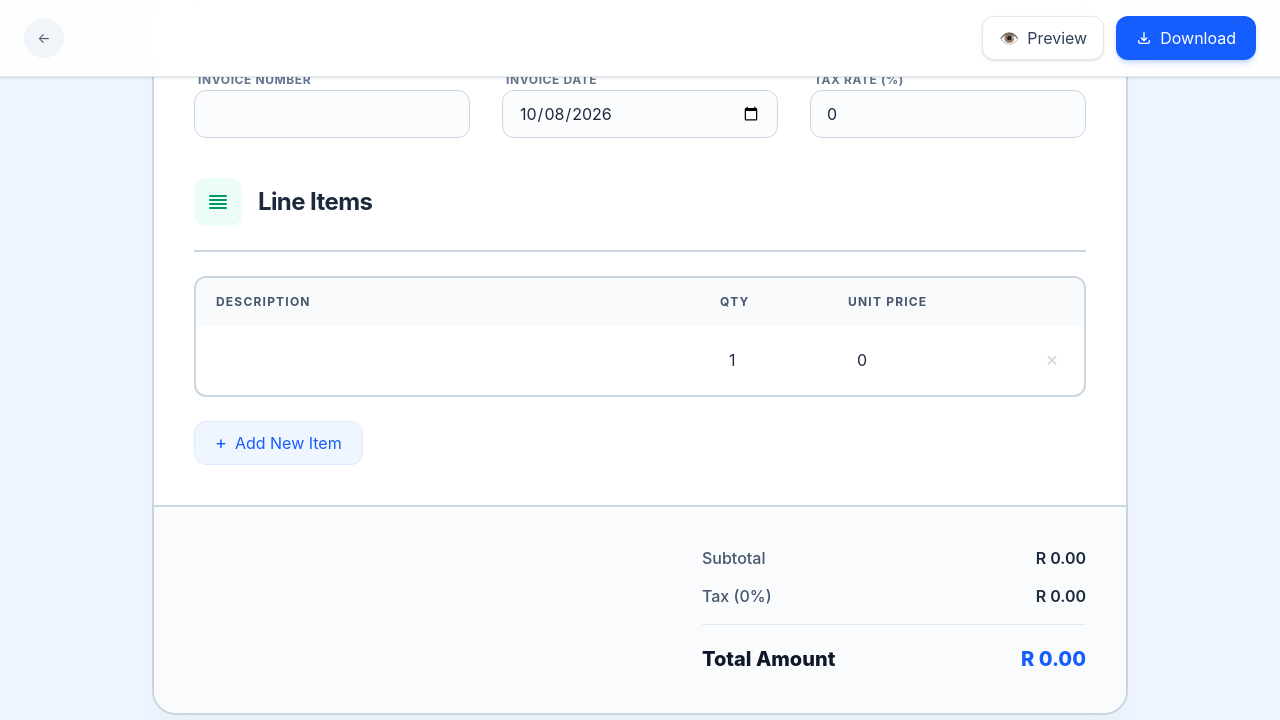
Scenario: InvoiceBuilder dataflow › Totals dataflow › changing subtotal recalculates tax, changing tax rate recalculates tax again, and inputs remain intact
(page scrolled)
Replace the text in the 2nd number field with "2" at coordinates (764, 360), box top-left (712, 338), bottom-right (816, 382)
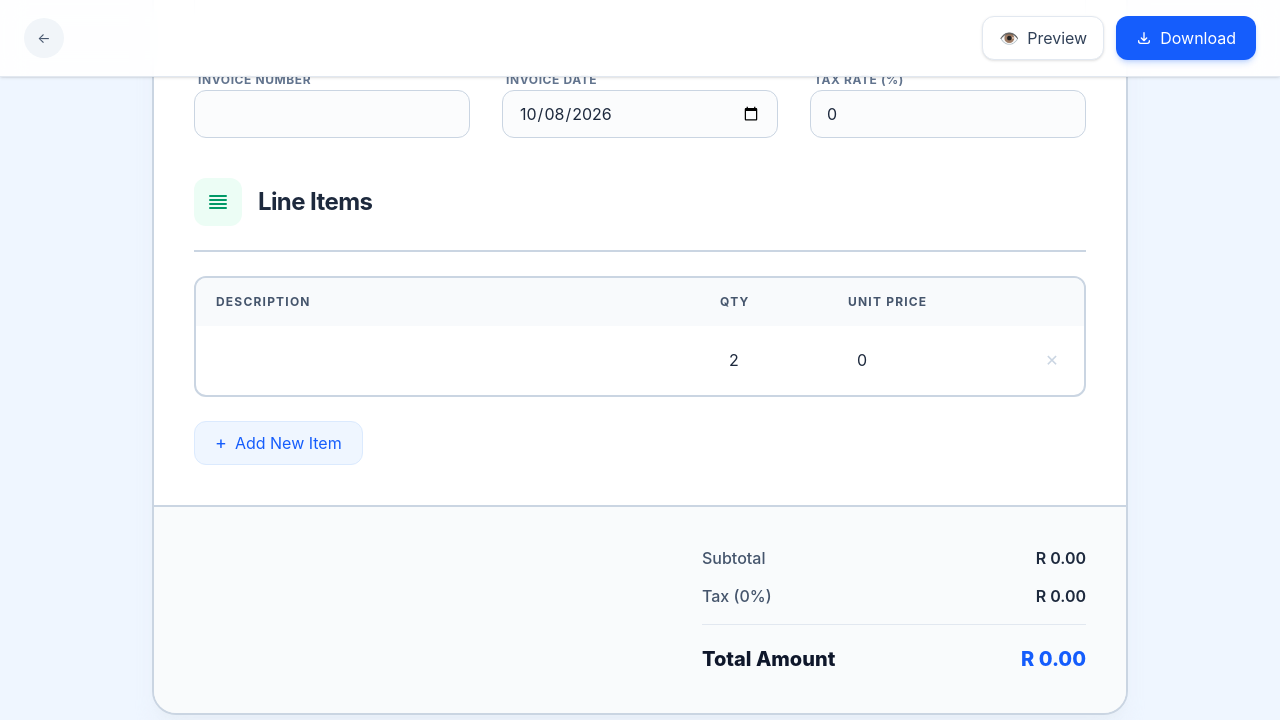
Replace the text in the 3rd number field with "50" at coordinates (924, 360), box top-left (840, 338), bottom-right (1008, 382)
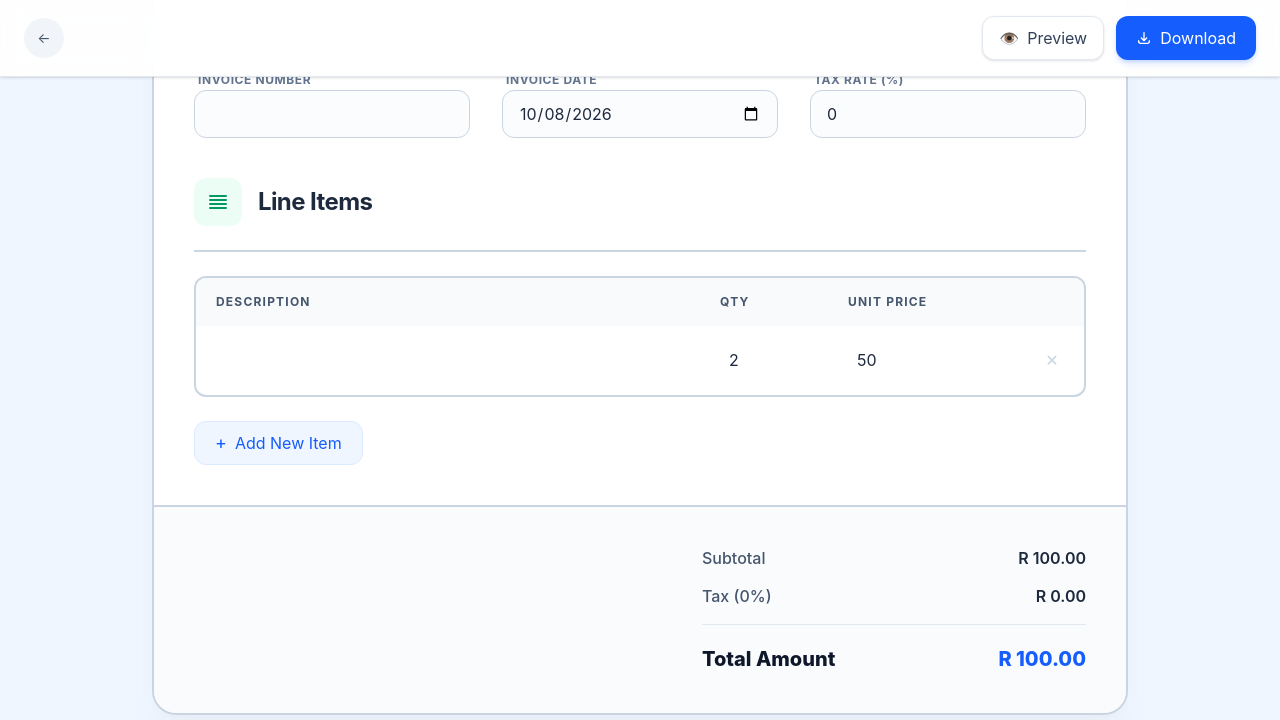
Replace the text in the number field below "Tax Rate (%)" with "10" at coordinates (948, 114), box top-left (810, 90), bottom-right (1086, 138)
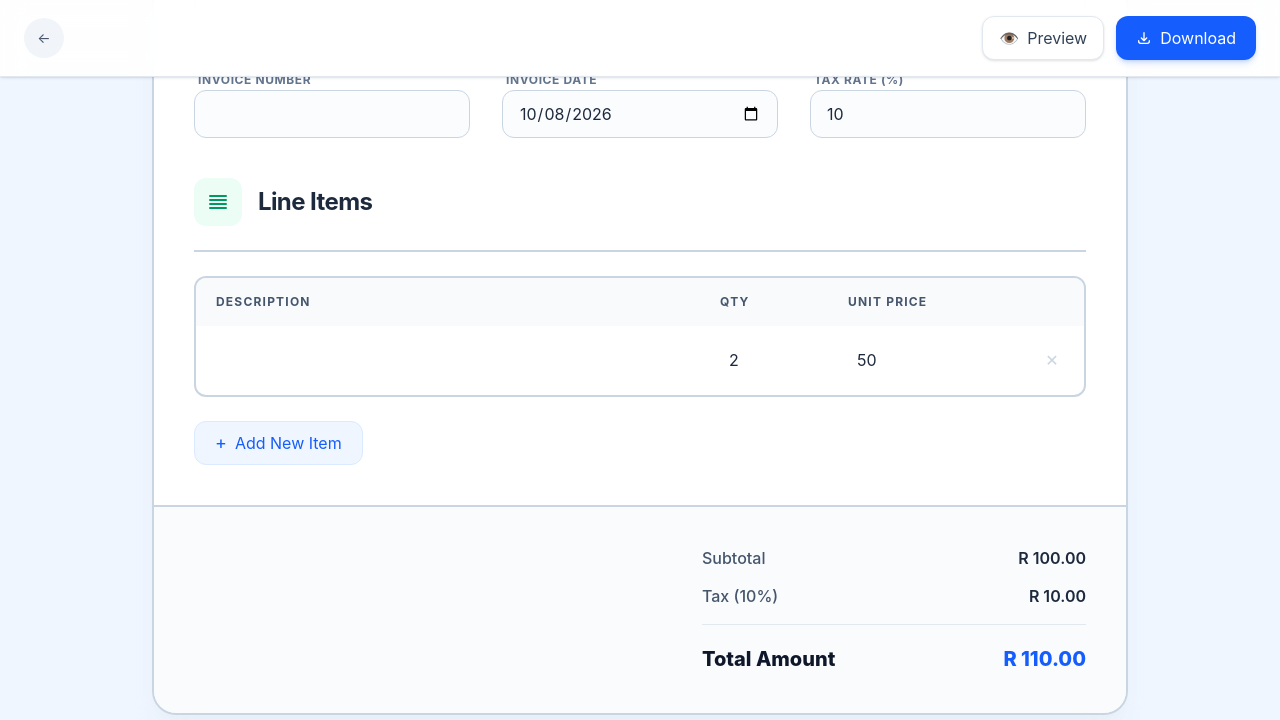
expect the text "R 100.00" is shown: met, box top-left (1018, 547), bottom-right (1086, 569)
expect the text "R 10.00" is shown: met, box top-left (1029, 585), bottom-right (1086, 608)
expect the text "R 110.00" is shown: met, box top-left (1003, 645), bottom-right (1086, 673)
Replace the text in the 3rd number field with "100" at coordinates (924, 360), box top-left (840, 338), bottom-right (1008, 382)
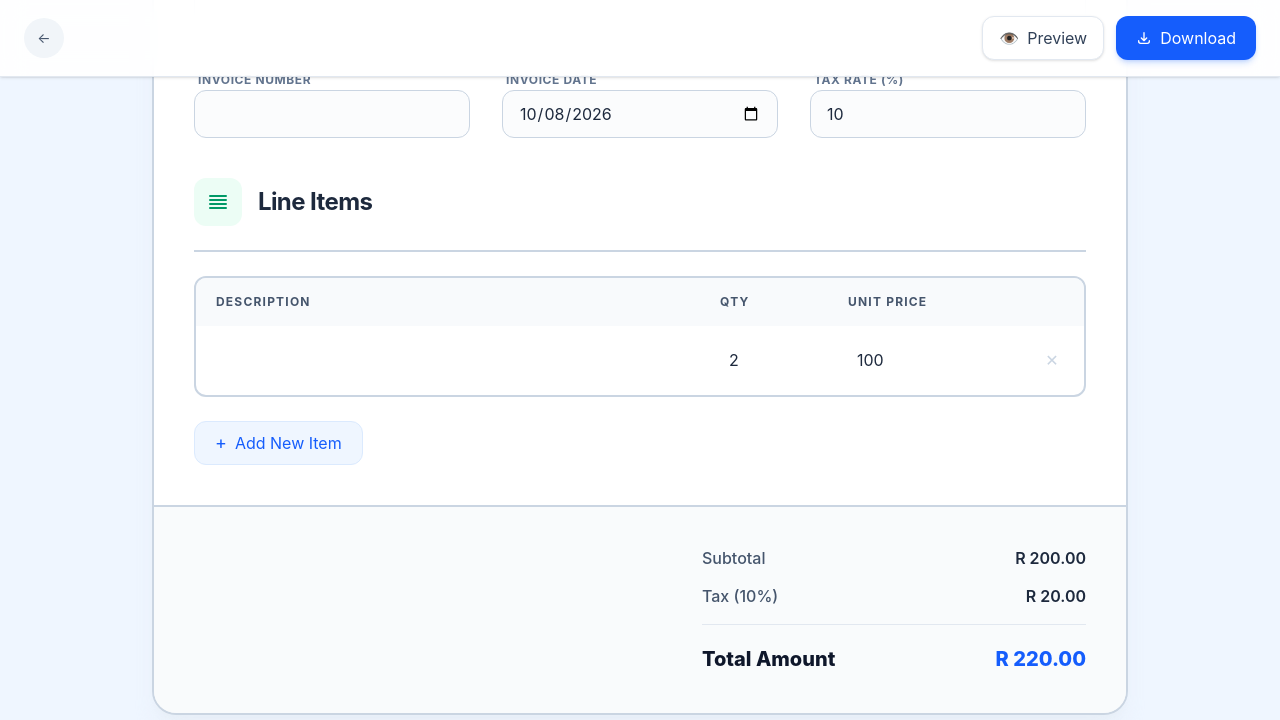
expect the text "R 200.00" is shown: met, box top-left (1015, 547), bottom-right (1086, 569)
expect the text "R 20.00" is shown: met, box top-left (1026, 585), bottom-right (1086, 608)
expect the text "R 220.00" is shown: met, box top-left (996, 645), bottom-right (1086, 673)
Replace the text in the number field below "Tax Rate (%)" with "20" at coordinates (948, 114), box top-left (810, 90), bottom-right (1086, 138)
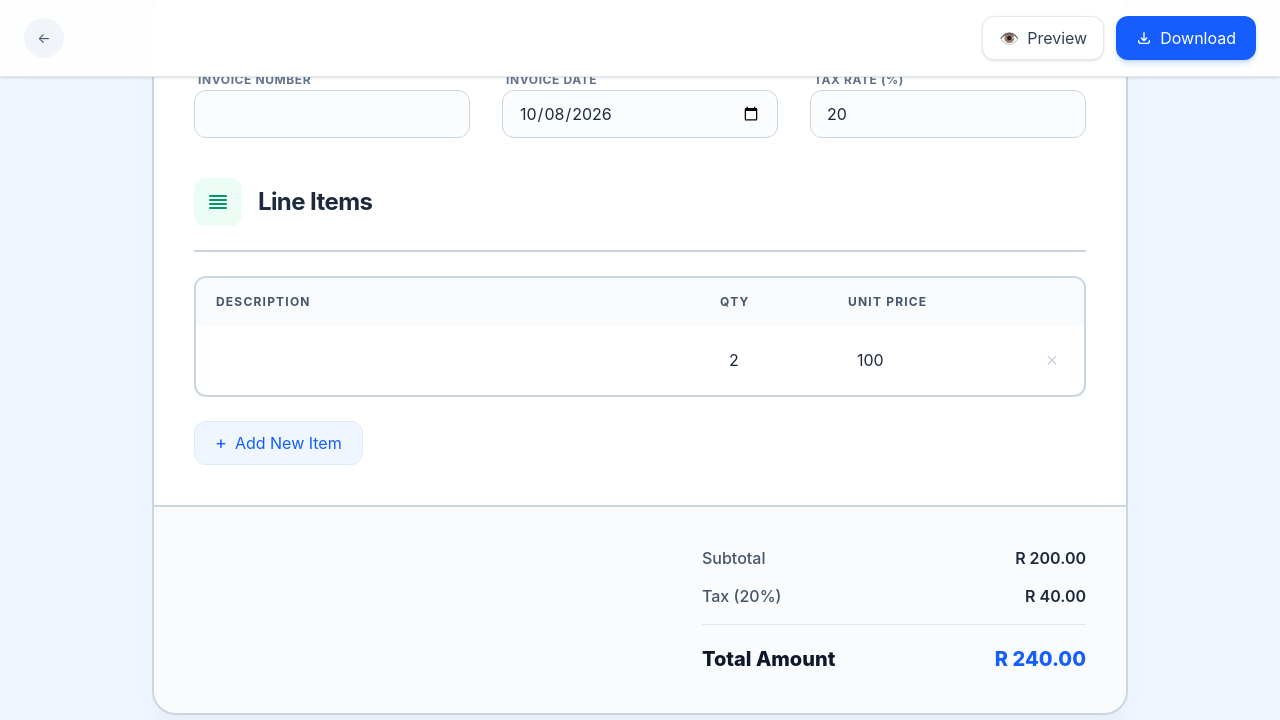
expect the text "Tax (20%)" is shown: met, box top-left (702, 585), bottom-right (781, 608)
expect the text "R 40.00" is shown: met, box top-left (1025, 585), bottom-right (1086, 608)
expect the text "R 240.00" is shown: met, box top-left (995, 645), bottom-right (1086, 673)
